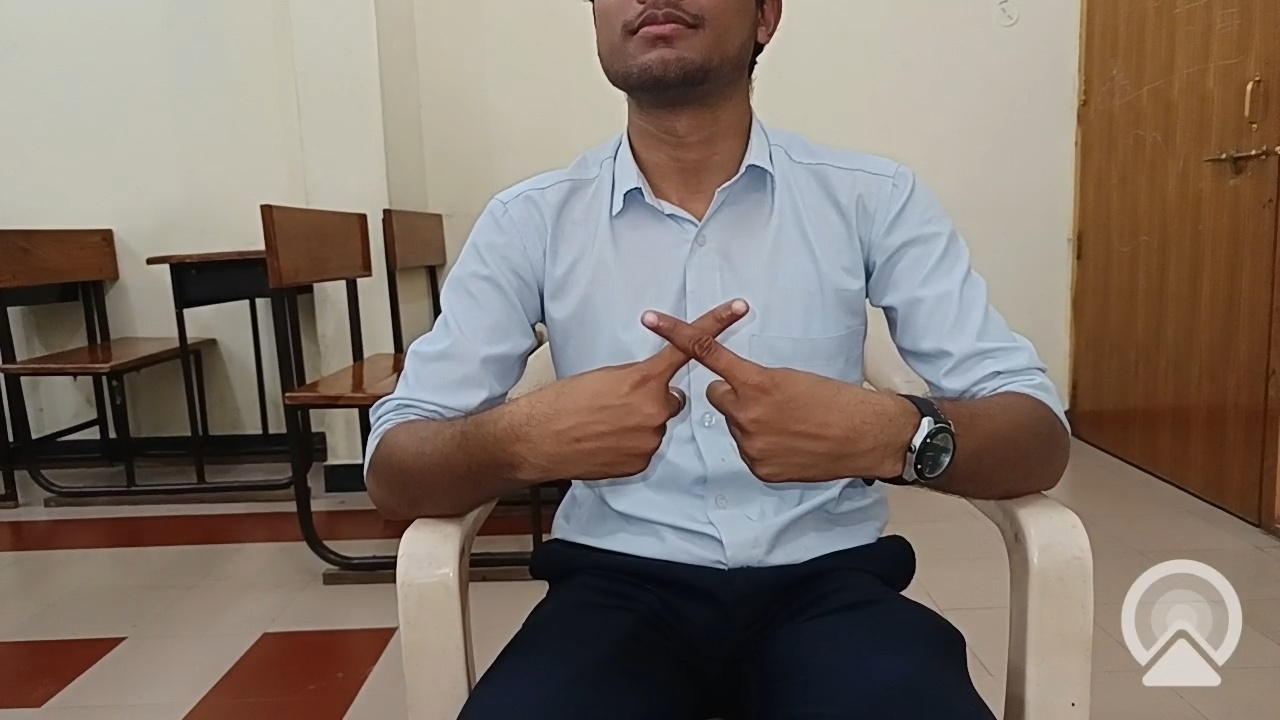X: (482, 251, 910, 577)
